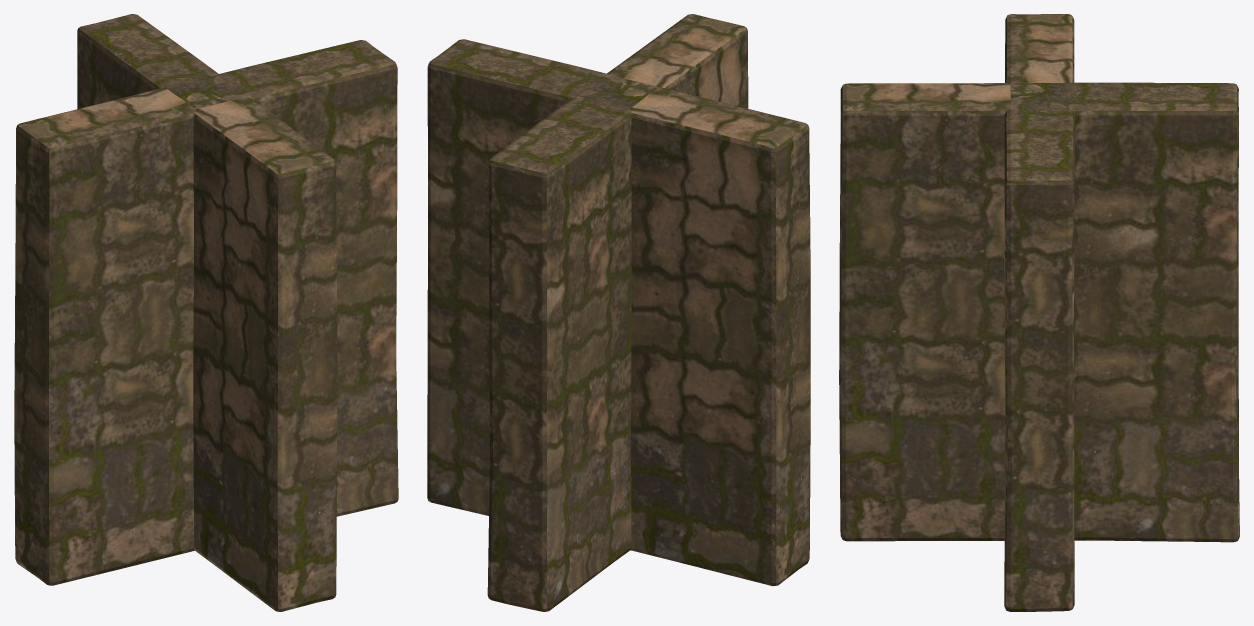
The model's file is wall_corner.glb.
The picture shows the model from 3 angles, left to right: view 1: azimuth 30°, elevation 25°; view 2: azimuth 150°, elevation 25°; view 3: azimuth 270°, elevation 25°; orthographic projection.
Visible parts, largest first — view 1: wall_corner; view 2: wall_corner; view 3: wall_corner.
Boxes of the visible parts, bbox=[...] form: wall_corner: bbox=[14, 14, 398, 611]; wall_corner: bbox=[427, 14, 810, 611]; wall_corner: bbox=[839, 14, 1239, 611].
Size of the model in its own units: 2.01 by 2.4 by 2.01.
Materials: 1 (1 with a texture image).
